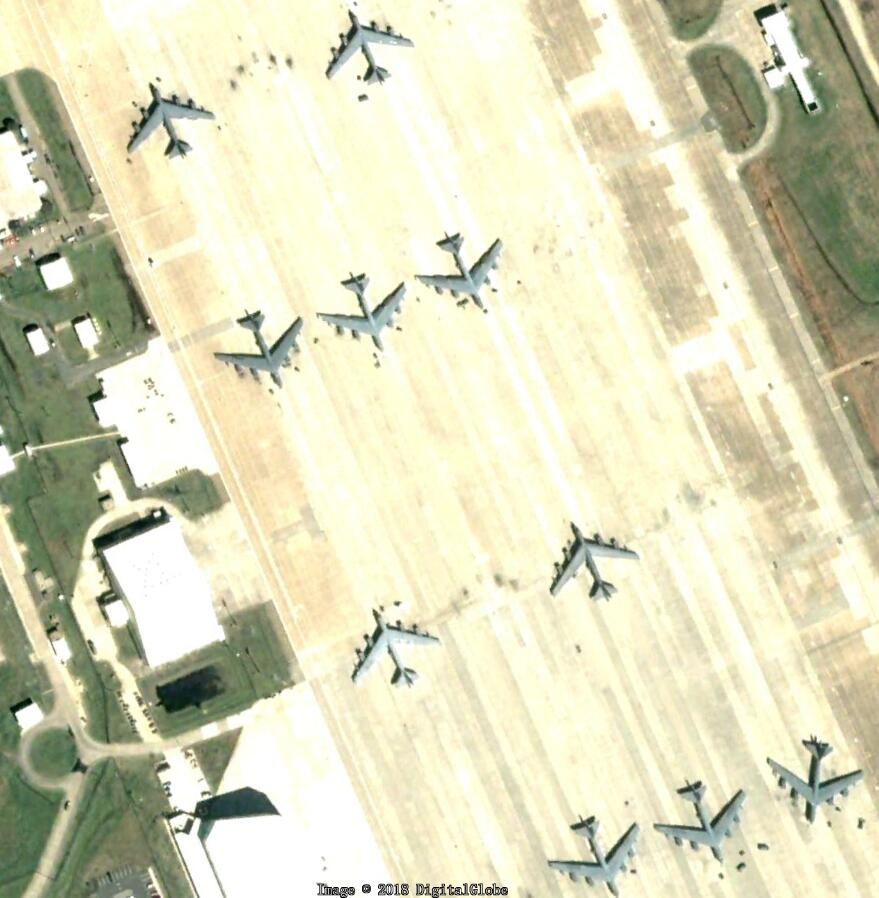A8: (759, 731, 868, 831), (648, 776, 753, 871), (344, 603, 446, 694), (540, 518, 643, 607), (543, 811, 644, 898), (414, 226, 507, 316), (316, 266, 410, 355), (208, 306, 306, 391), (122, 82, 222, 165), (325, 7, 415, 89)
